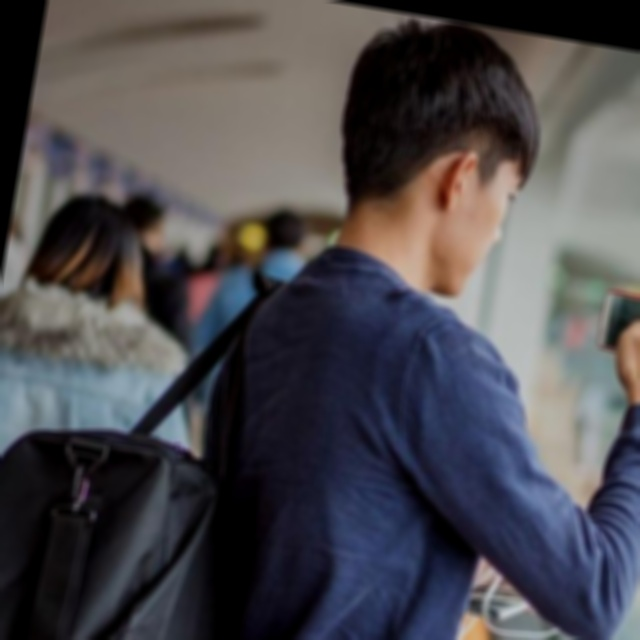Sin_Casco_Mascarrilla: (315, 7, 555, 304)
Sin_Chaleco: (169, 248, 544, 640)
